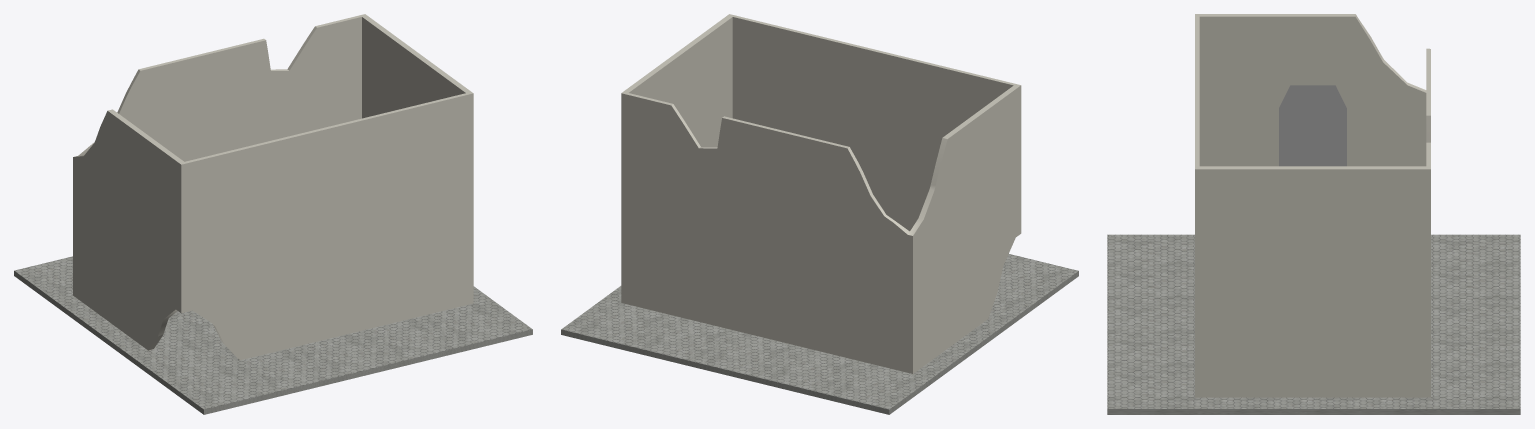
Rendered from Collection_Prototype.fbx.
The picture shows the model from 3 angles, left to right: view 1: azimuth 30°, elevation 25°; view 2: azimuth 150°, elevation 25°; view 3: azimuth 270°, elevation 25°; orthographic projection. The views are drawn at different scales.
Parts seen in each view (by area): view 1: Collection_Room, Collection_Ground; view 2: Collection_Room, Collection_Ground; view 3: Collection_Room, Collection_Ground.
Boxes of the visible parts, x1,y1,x2,y2 form: Collection_Room: (73,14,473,360); Collection_Ground: (14,256,532,414); Collection_Room: (621,14,1021,373); Collection_Ground: (561,254,1078,414); Collection_Room: (1195,14,1430,397); Collection_Ground: (1107,234,1520,414).
Size of the model in its own units: 268 by 169 by 268.
Materials: 3 (1 with a texture image).
